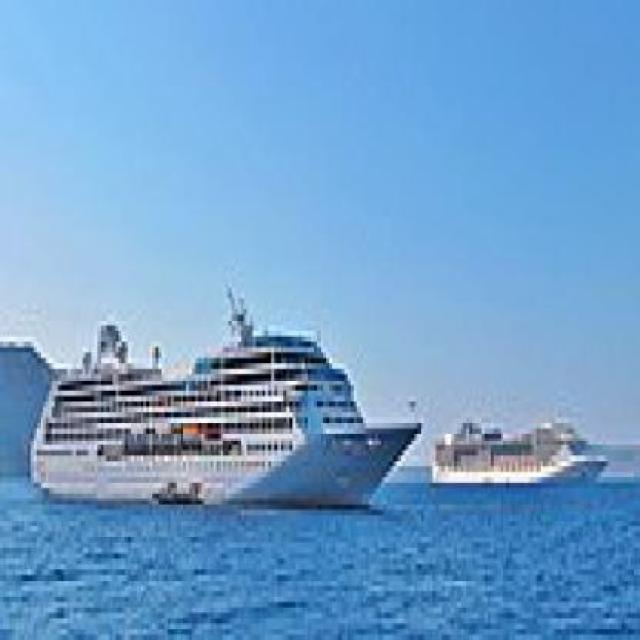cruise: (19, 278, 428, 532)
